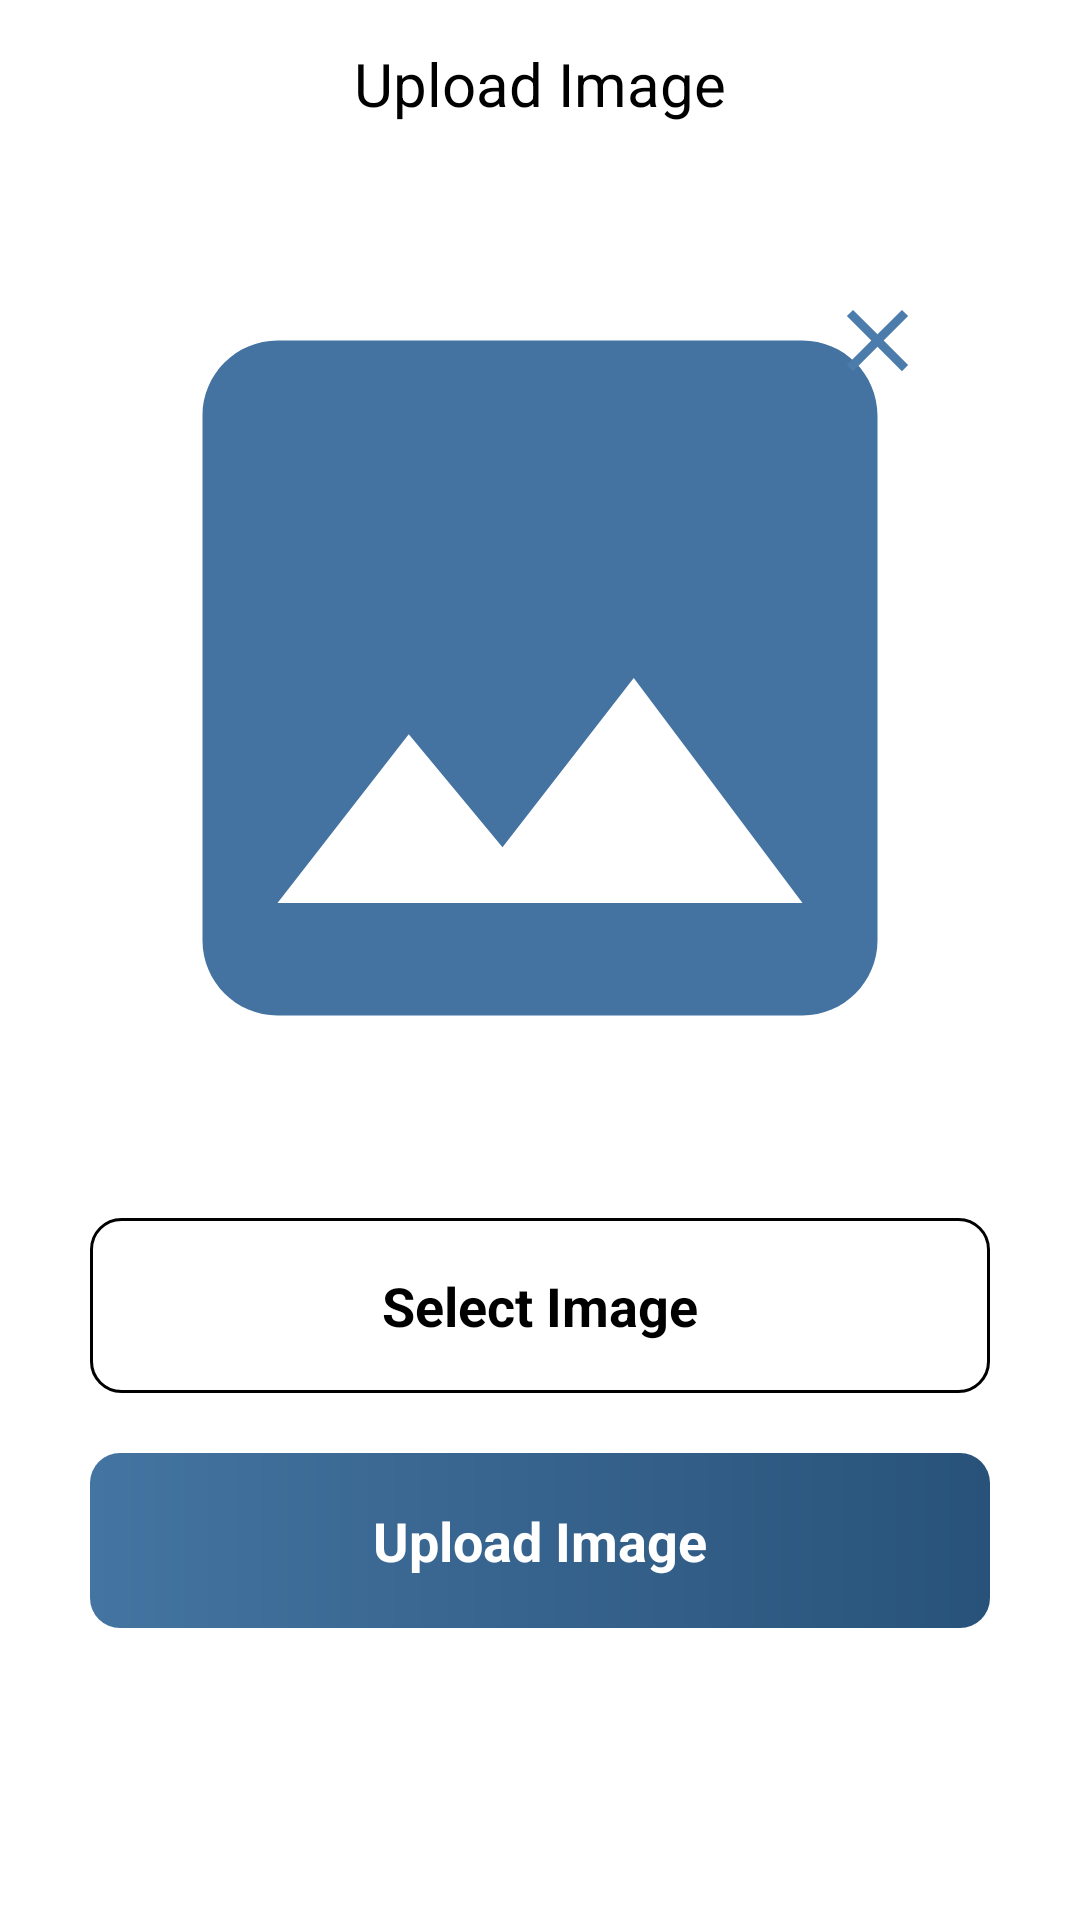

Screen size 1080×1920. Icon name, then its box in pixels as (x1, y1, x2, y2):
close: (825, 310, 908, 393)
